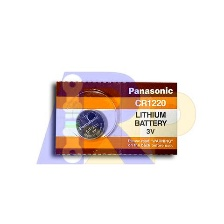battery: (71, 107, 106, 143)
book: (52, 77, 180, 158)
